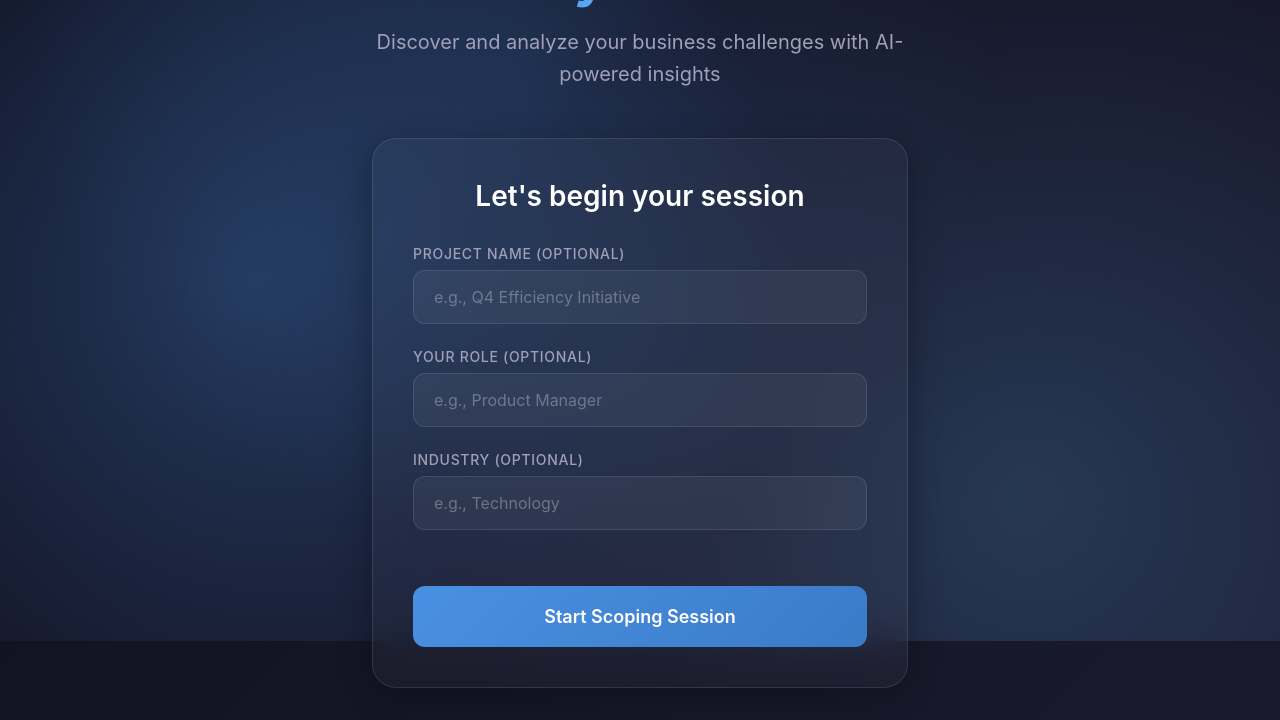
Test: App › should detect session completion
The image size is (1280, 720).
(page scrolled)
Note: Start session
Click the button "Start Scoping Session".
click(640, 616)  # box [413,586,867,647]
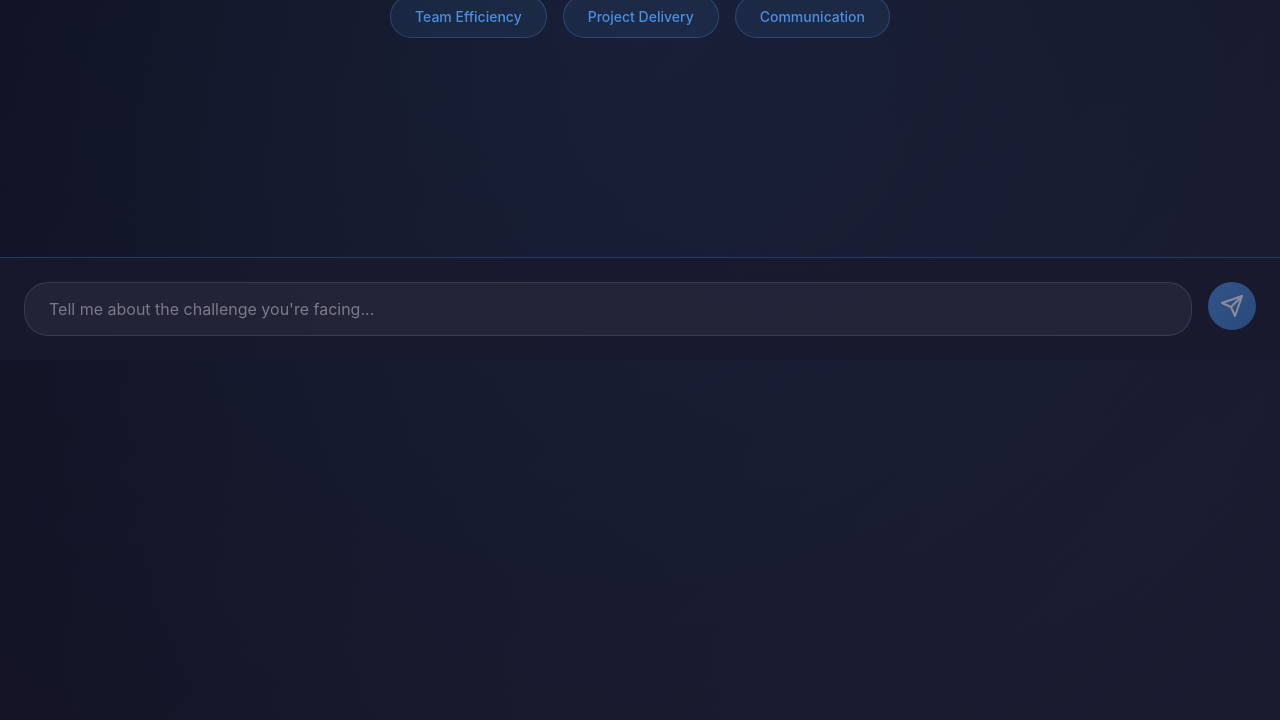
Note: Send message that triggers completion
Type "Complete the session" into the field with placeholder "Tell me about the challenge you're facing...".
click(608, 309); type("Complete the session")  # box [24,282,1192,336]
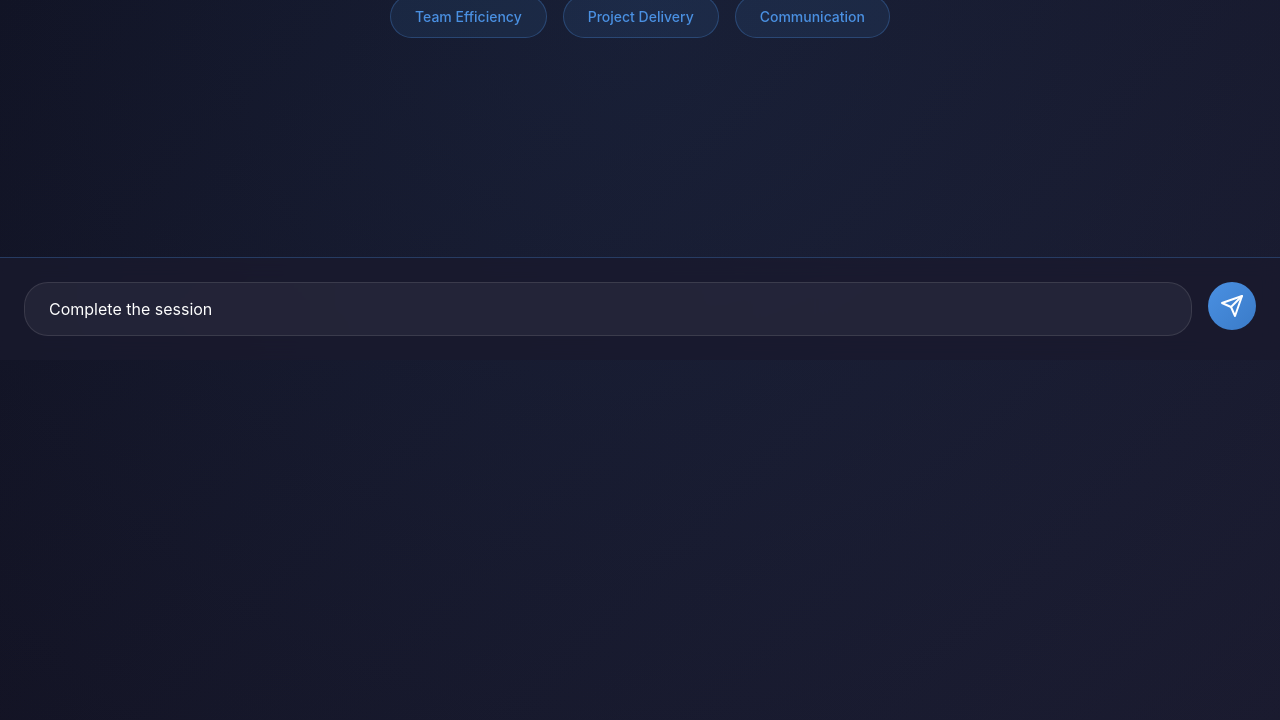
Submit the form with placeholder "Tell me about the challenge", box [0,257,1279,360]
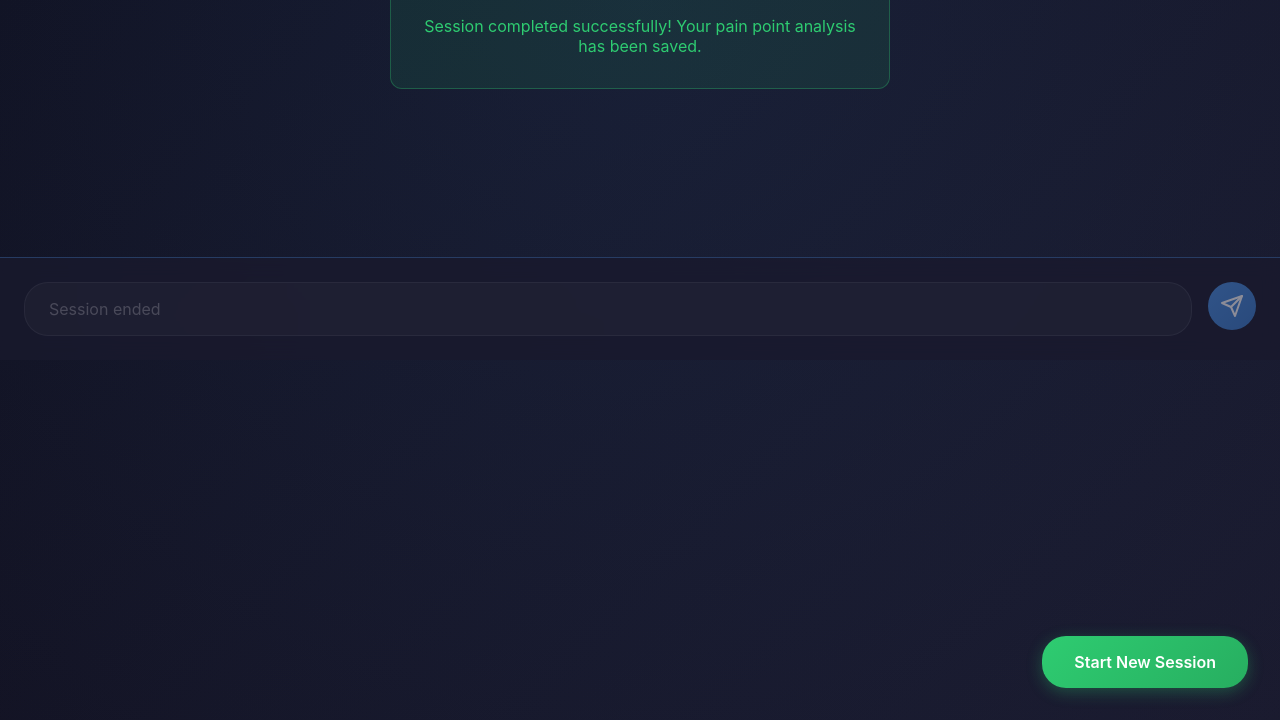
expect the text "Session completed successfully" is shown: met, box [424,16,856,56]
expect the button "Start New Session" is shown: met, box [1042,636,1248,688]
